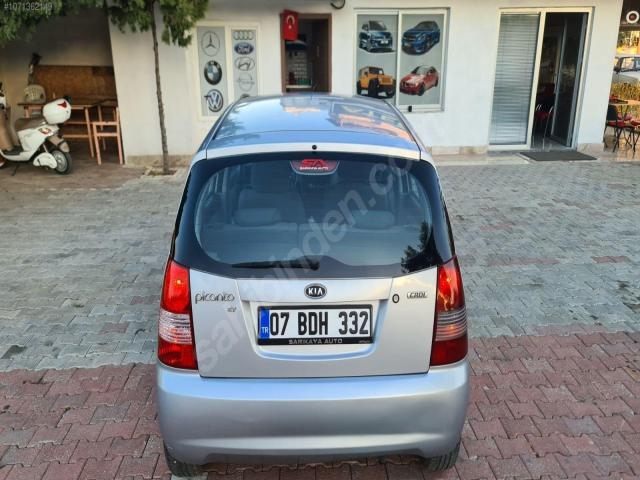plaka: (256, 304, 374, 345)
